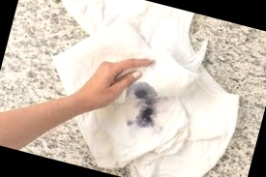ink: (133, 82, 159, 104), (135, 105, 157, 128)
